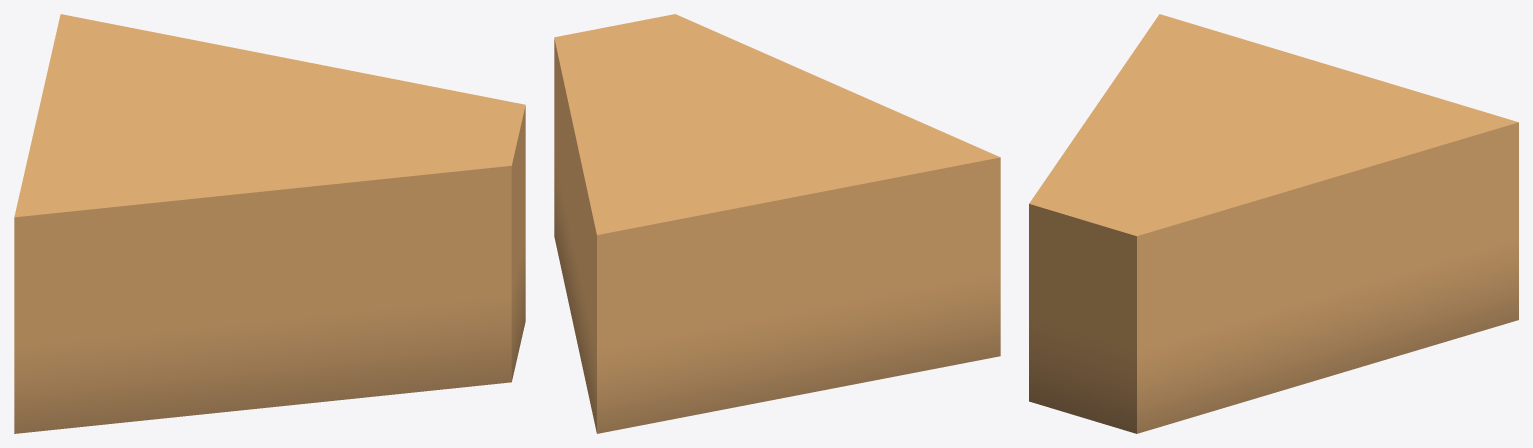
The model's file is PlatTri01.022.glb.
3 views of the same model, side by side, from view 1: azimuth 30°, elevation 25°; view 2: azimuth 150°, elevation 25°; view 3: azimuth 270°, elevation 25° (orthographic). The views are drawn at different scales.
Parts seen in each view (by area): view 1: PlatTri01.022; view 2: PlatTri01.022; view 3: PlatTri01.022.
Part boxes in pixels (box(x1,y1,x2,y2)): PlatTri01.022: box(14, 14, 525, 433); PlatTri01.022: box(554, 14, 1000, 433); PlatTri01.022: box(1029, 14, 1518, 433).
Size of what is drawn, in the model's own units: 2.78 by 1.15 by 2.59.
Materials: 1 (1 with a texture image).
